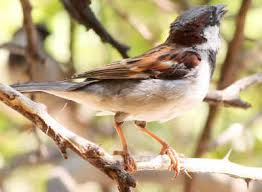hsparrow: (13, 3, 231, 181)
